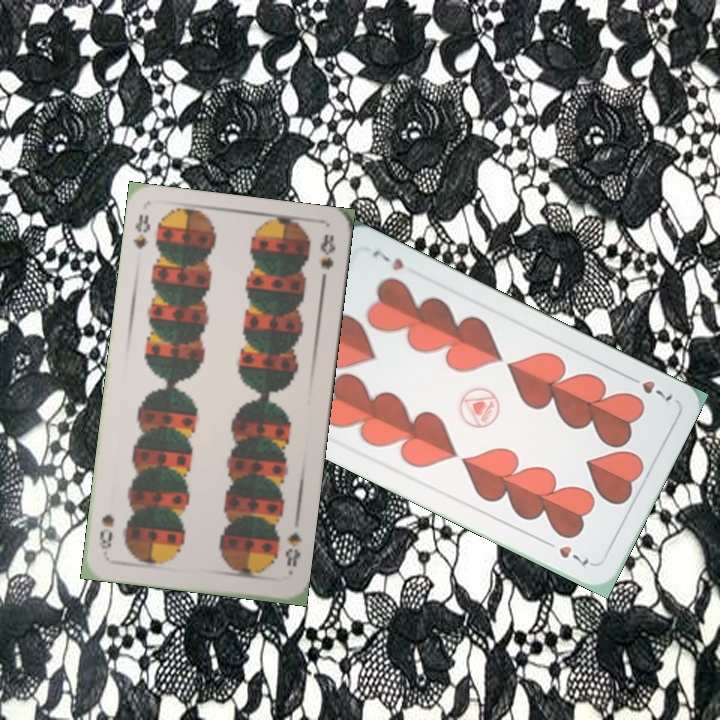H7: (622, 370, 676, 404)
S8: (129, 210, 153, 252), (281, 528, 304, 569)
